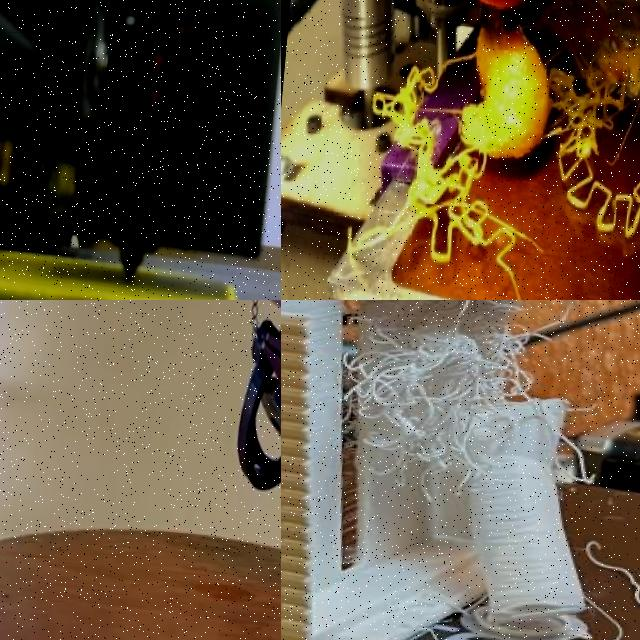spaghetti: (322, 300, 638, 502), (370, 55, 527, 271), (522, 0, 640, 242)
